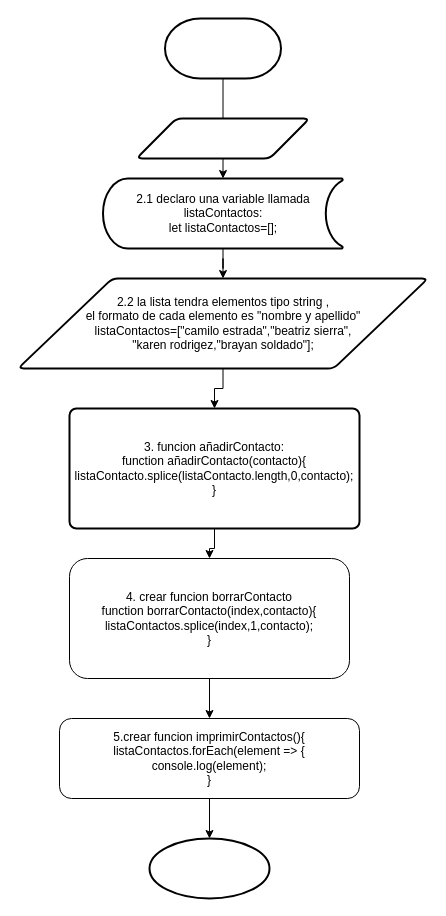
Some shapes in this 446 by 916 pixel diagram are drawn without their labels. The centre of each missing label's shape, as x and y in pixels:
1. entrada de datos: point (222, 138)
end: point (209, 868)
Start: point (223, 48)
